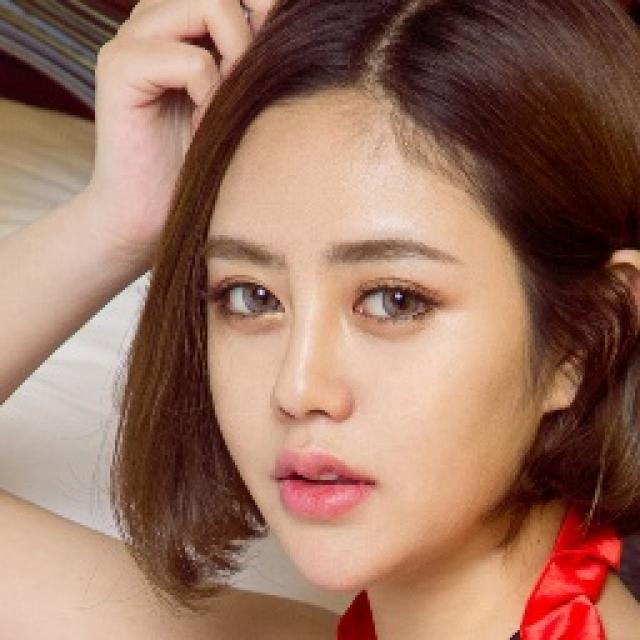earlobe: (538, 365, 575, 414)
eye: (353, 286, 432, 318), (216, 283, 286, 317)
nose: (264, 400, 352, 454)
wholeear: (538, 249, 640, 414)
